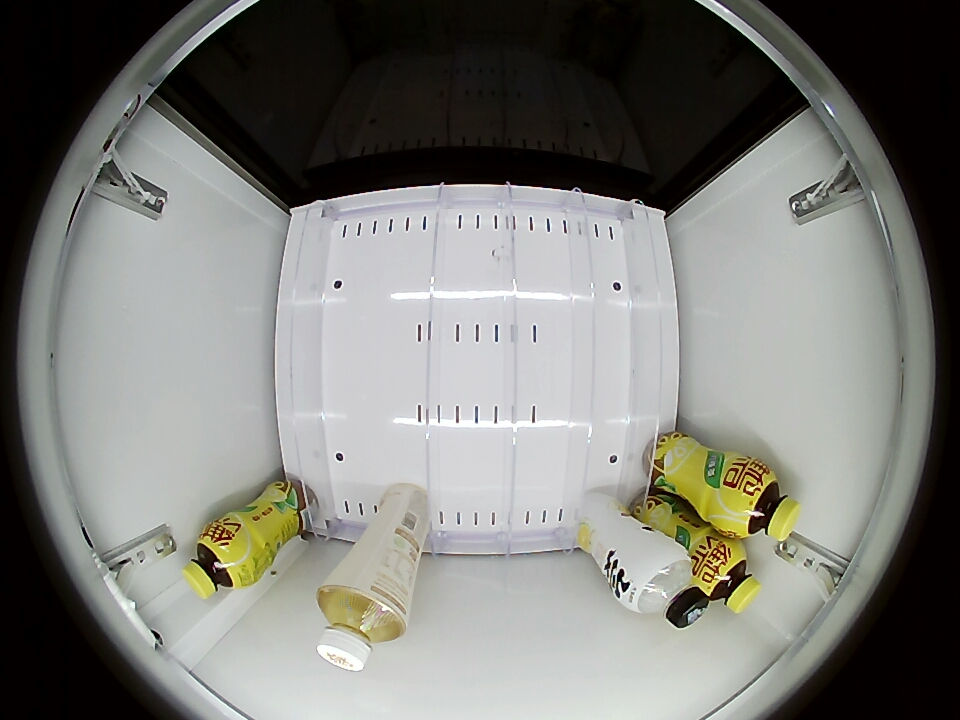rancha-2: (316, 582, 408, 673)
weitaningmeng-bottle: (721, 464, 801, 542), (182, 522, 258, 598), (695, 541, 762, 614)
yuanqishui: (614, 539, 710, 628)
